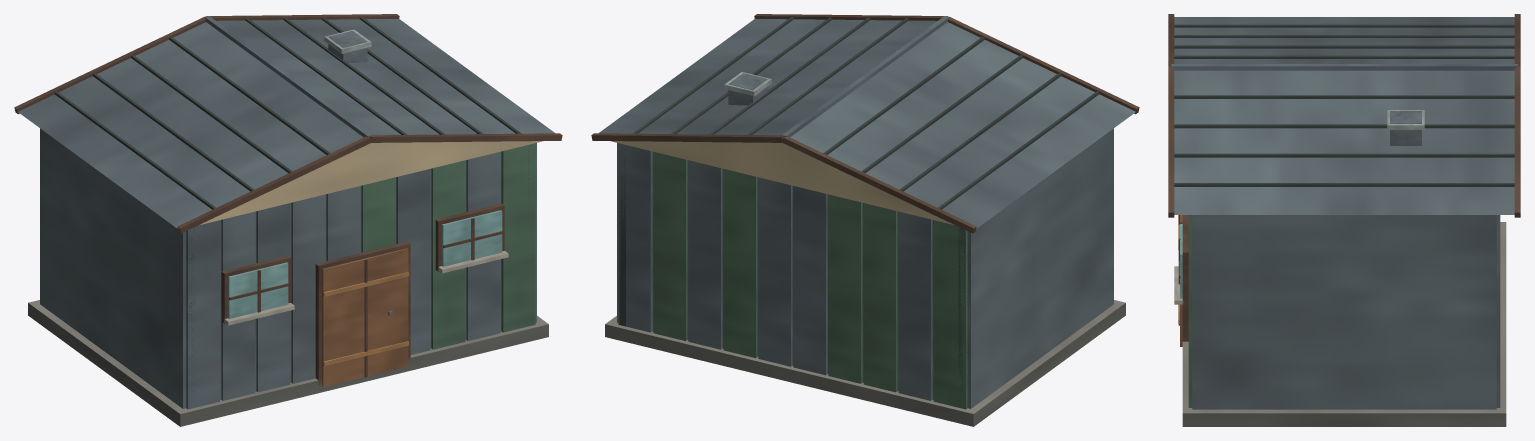
The model's file is pump_station.fbx.
3 views of the same model, side by side, from view 1: azimuth 30°, elevation 25°; view 2: azimuth 150°, elevation 25°; view 3: azimuth 270°, elevation 25° (orthographic). The views are drawn at different scales.
Parts seen in each view (by area): view 1: pump_station; view 2: pump_station; view 3: pump_station.
Part boxes in pixels (left/top/right/bottom): pump_station: left=14, top=14, right=562, bottom=426; pump_station: left=591, top=14, right=1139, bottom=426; pump_station: left=1168, top=14, right=1520, bottom=426.
Bounding box in the file's own units: 800 × 500 × 600.
Materials: 2 (2 with a texture image).
